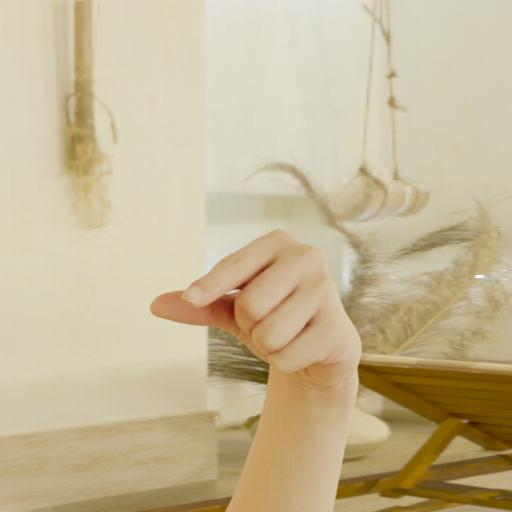G: (148, 225, 374, 384)
